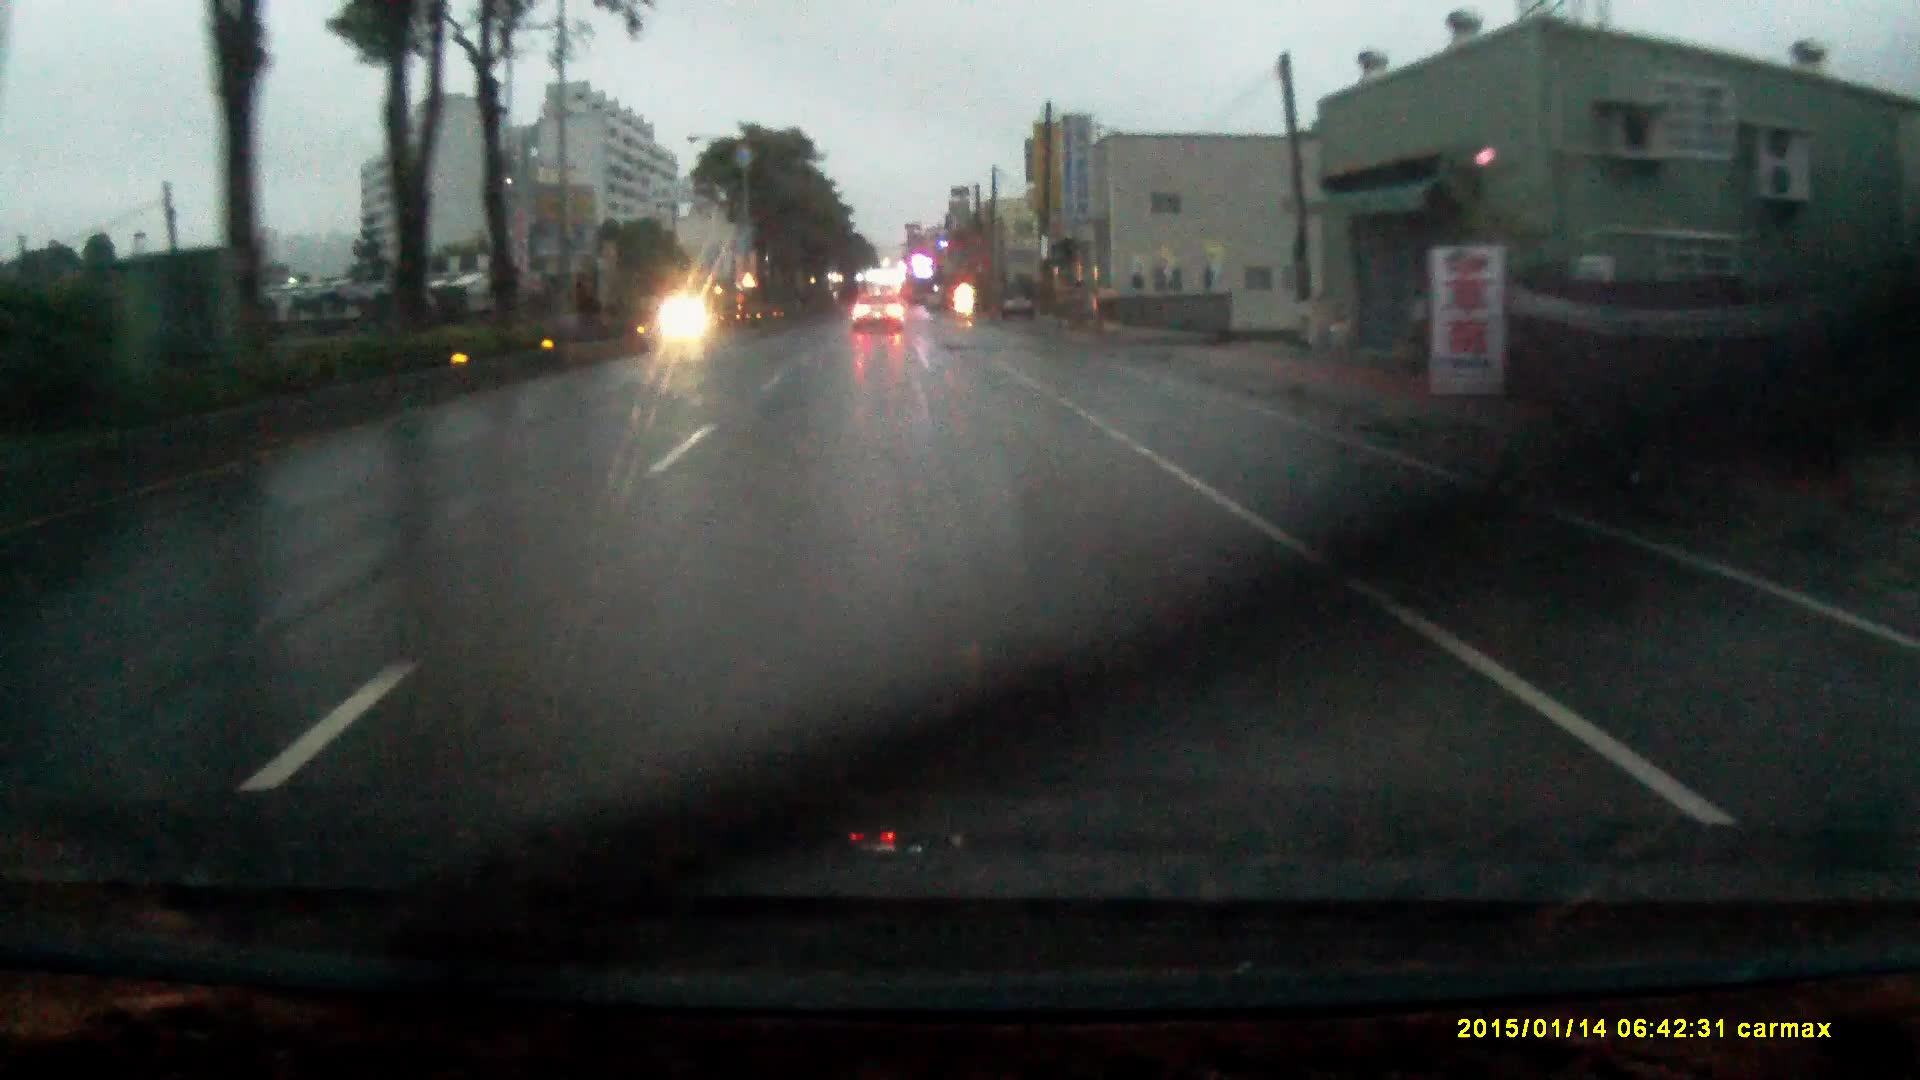vehicle: (851, 295, 905, 342), (1004, 282, 1040, 323)
